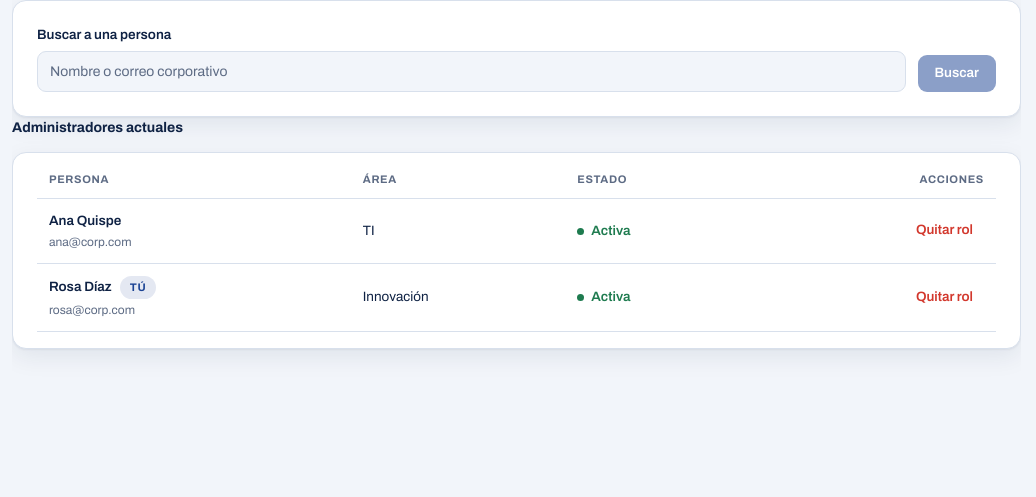
<AdministradoresAdmin /> — la promoción › no ofrece el rol a una cuenta dada de baja
The width and height of the screenshot is (1036, 497).
Type "beto" into the field labelled "Buscar a una persona".
click(471, 72); type("beto")  # box [37, 51, 906, 92]
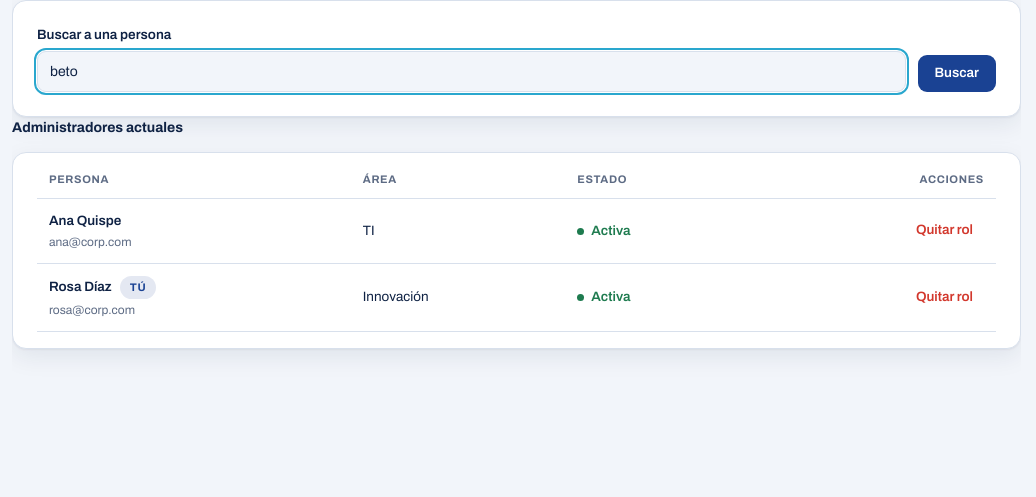
Click the button "Buscar".
click(957, 74)  # box [918, 55, 996, 92]
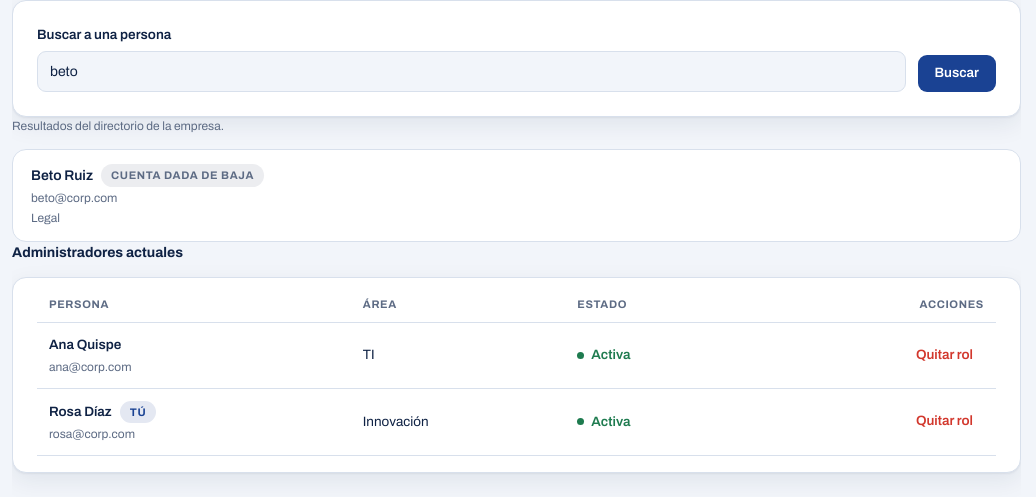
expect the text "Cuenta dada de baja" is shown: met, box [101, 164, 264, 187]
